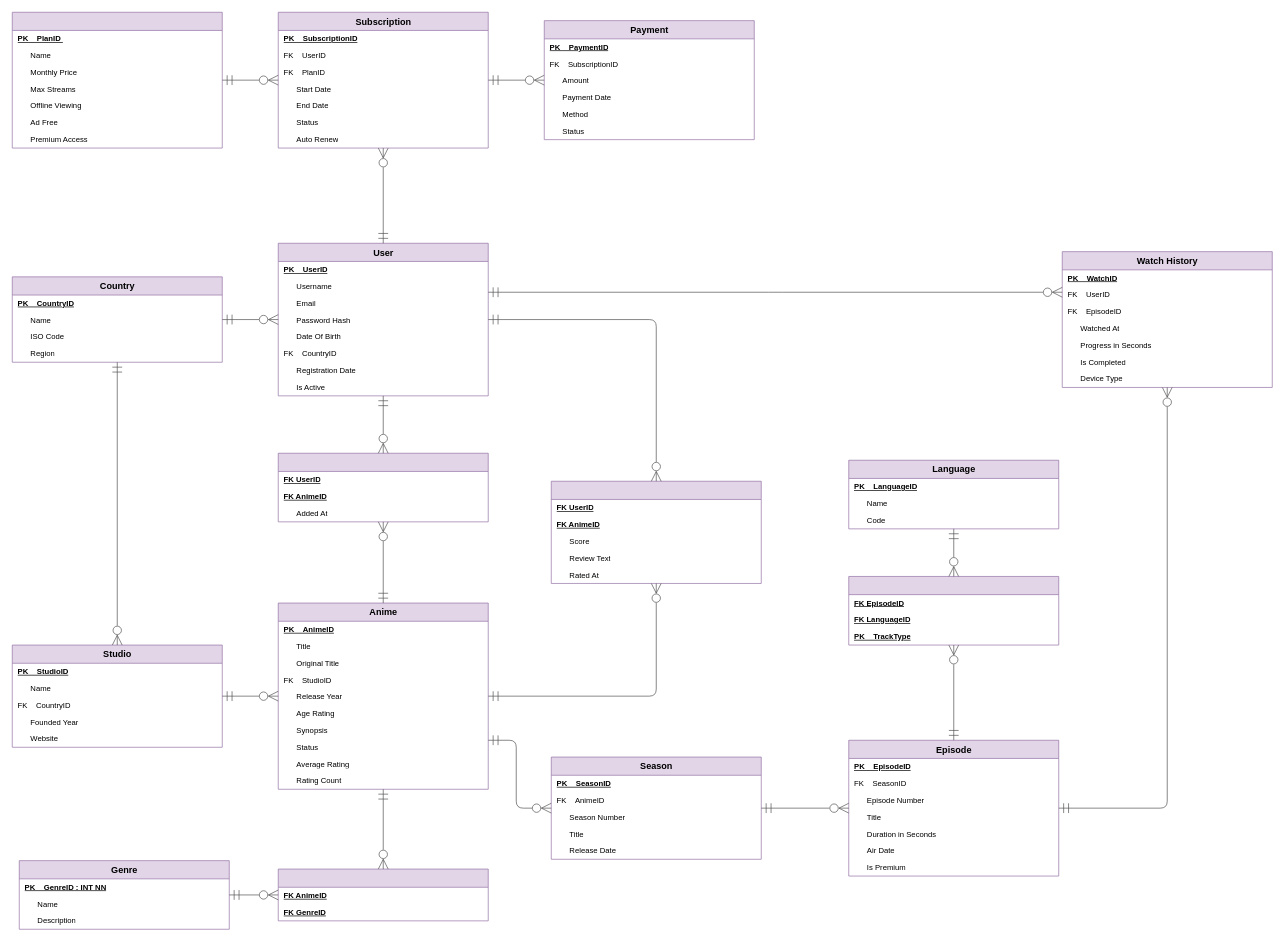
Image size: 1285x942. Some labels were removed from this diagram. The box of each missing label's shape, as (x1, y1, x2, y2) in pixels:
Anime Genre: (278, 868, 488, 921)
Episode Language: (848, 576, 1059, 645)
Rating: (551, 481, 761, 583)
Subscription Plan: (12, 12, 222, 148)
Watchlist: (278, 453, 488, 522)
